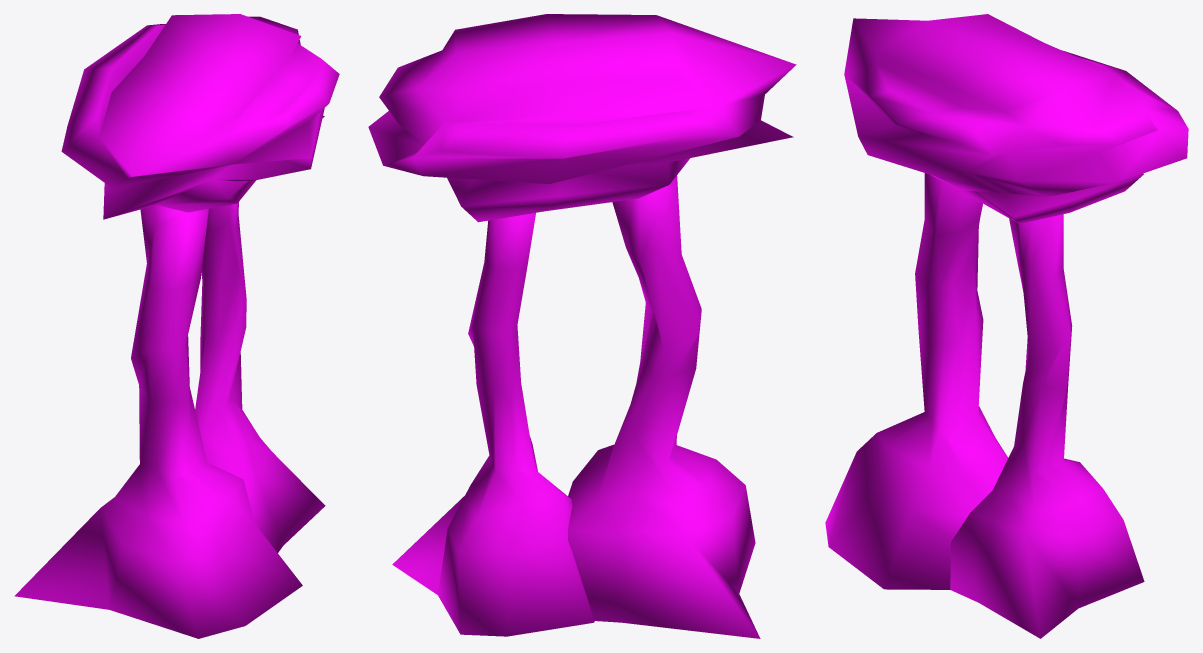
File: rock-set-desert-05.glb
3 renders of one model, left to right at view 1: azimuth 30°, elevation 25°; view 2: azimuth 150°, elevation 25°; view 3: azimuth 270°, elevation 25°, orthographic. The views are drawn at different scales.
Parts seen in each view (by area): view 1: Cube_007-mesh; view 2: Cube_007-mesh; view 3: Cube_007-mesh.
Part boxes in pixels (bbox=[...]): Cube_007-mesh: bbox=[14, 14, 339, 638]; Cube_007-mesh: bbox=[368, 14, 796, 638]; Cube_007-mesh: bbox=[825, 14, 1188, 638].
Size of the model in its own units: 0.996 by 1.47 by 0.934.
